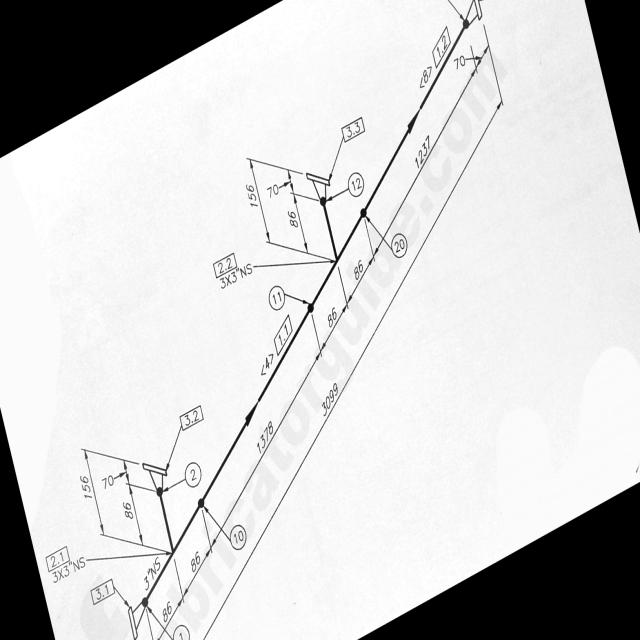Item number: (272, 309, 295, 362), (430, 20, 453, 73), (340, 111, 369, 149), (211, 248, 239, 283), (44, 542, 72, 576), (178, 401, 206, 435), (89, 575, 118, 607)
Measrement: (192, 78, 504, 639), (207, 332, 322, 557), (368, 54, 479, 266), (235, 152, 274, 243), (70, 446, 108, 536), (179, 530, 213, 605), (343, 236, 375, 313), (316, 290, 351, 357), (145, 580, 184, 639), (282, 194, 312, 255), (117, 484, 145, 546), (50, 548, 89, 587), (216, 257, 256, 294), (263, 167, 296, 207), (99, 461, 132, 498), (141, 550, 163, 597), (454, 49, 484, 75)
Pipeline: (145, 23, 468, 603)
Symbol: (290, 165, 368, 316), (136, 457, 207, 611), (304, 169, 333, 207), (126, 596, 151, 640), (143, 459, 169, 500), (461, 0, 485, 32), (241, 399, 261, 430), (405, 105, 421, 139)
Weld number: (183, 459, 203, 490), (267, 281, 287, 312), (346, 169, 366, 199), (229, 523, 248, 552), (390, 232, 409, 261), (171, 623, 192, 640)
